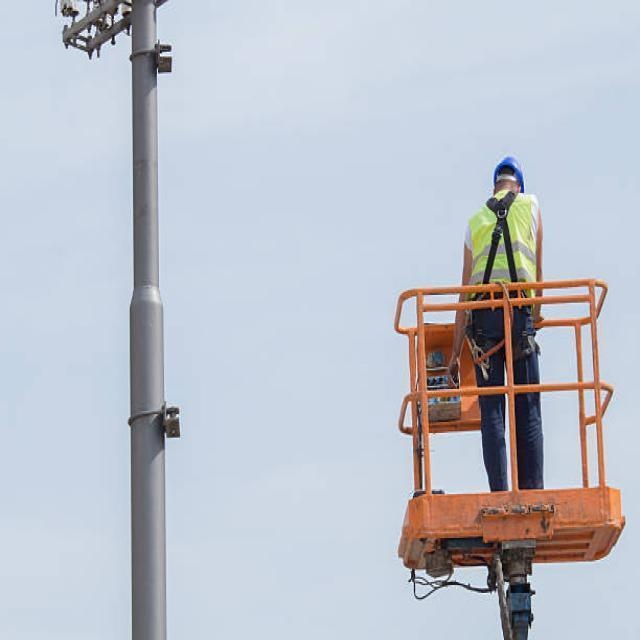Arnes_seguridad: (470, 193, 534, 365)
